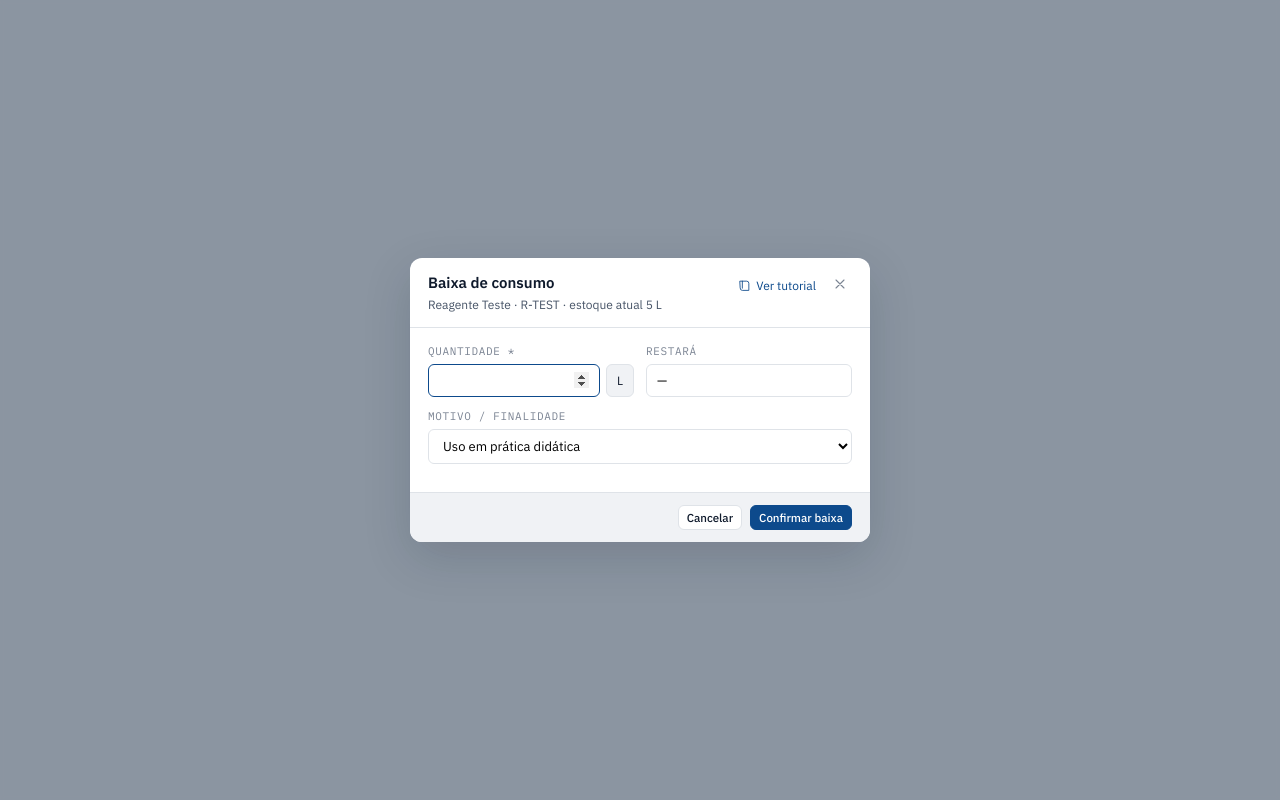
Test case: FormBaixa › recusa quantidade acima do estoque com erro inline, sem alert
Type "10" into the number field.
click(514, 381); type("10")  # box [428, 364, 600, 397]
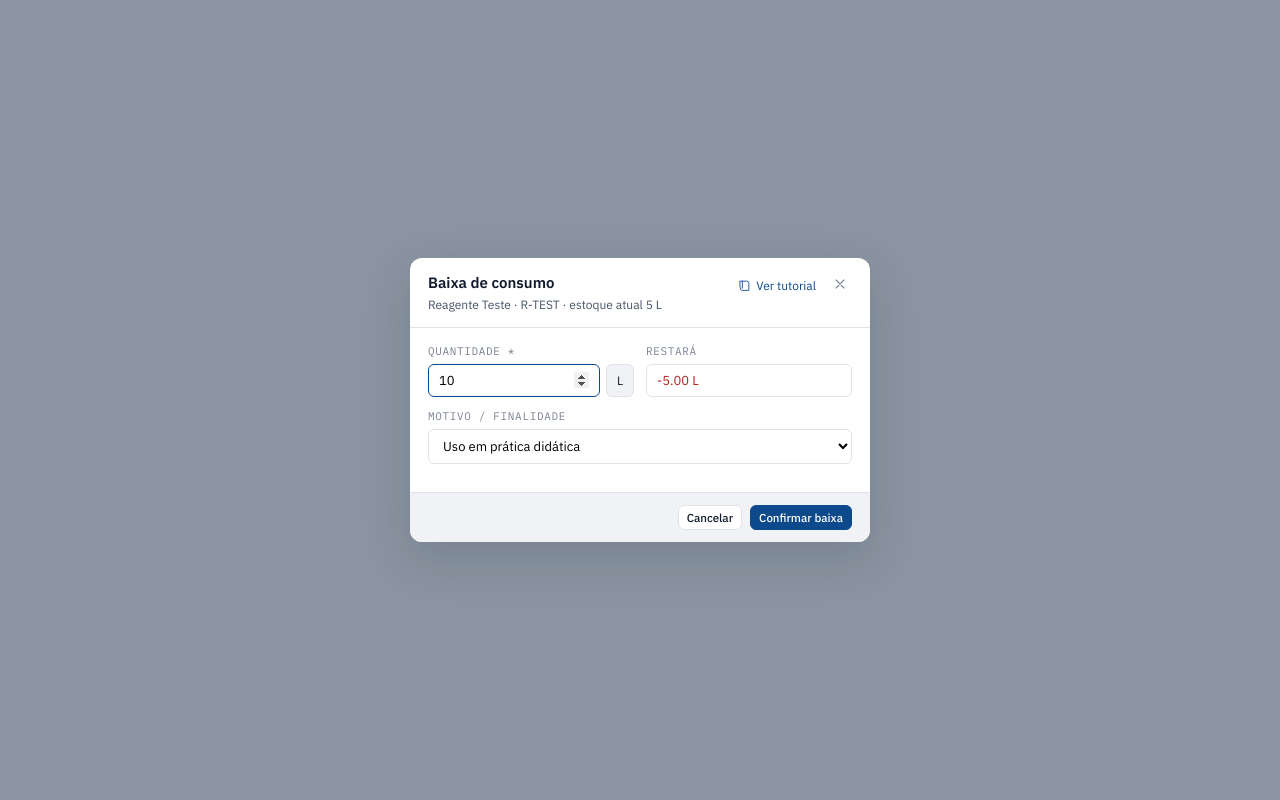
Click the button "Confirmar baixa".
click(801, 518)  # box [750, 505, 852, 530]
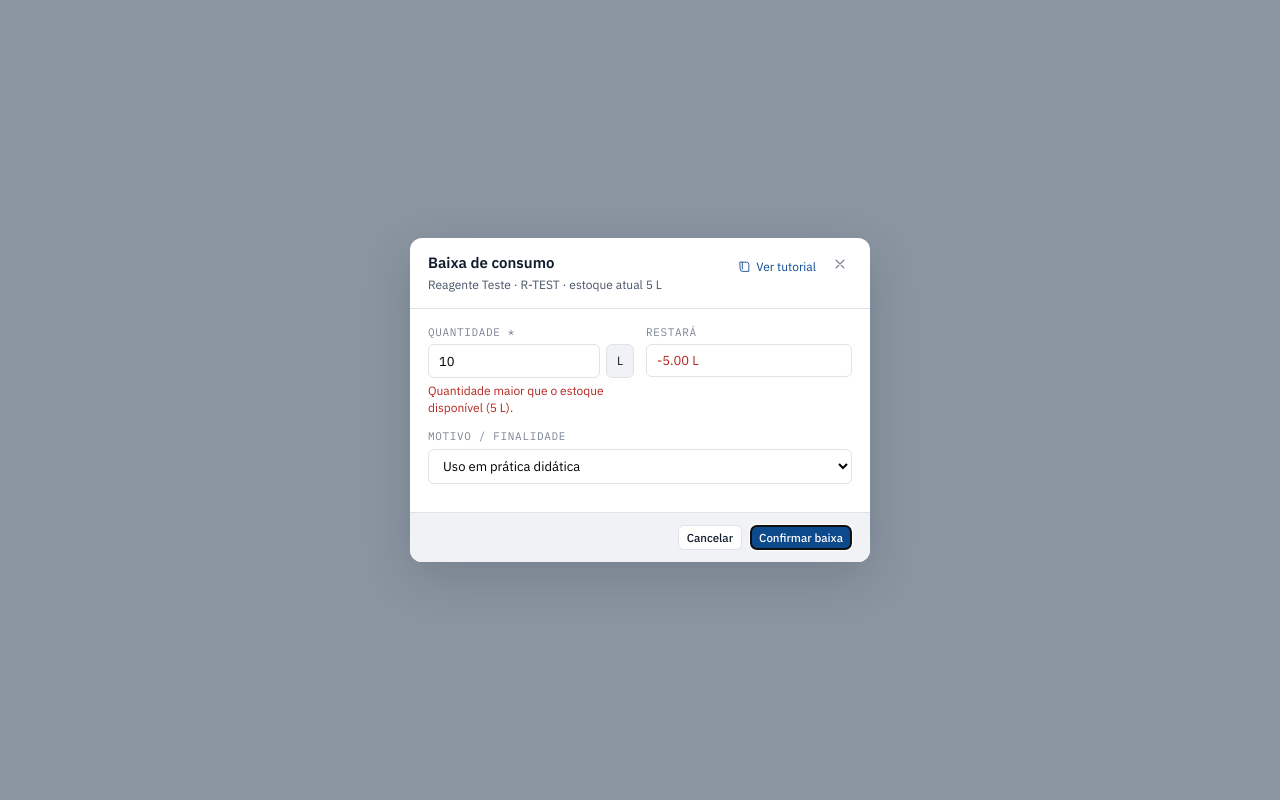
Now the text "Quantidade maior que o estoque disponível (5 L)." is shown, box [428, 382, 634, 417]
